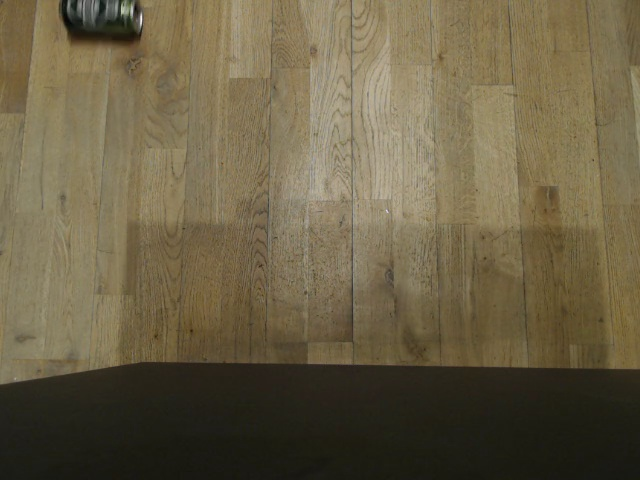beer: (51, 0, 148, 45)
